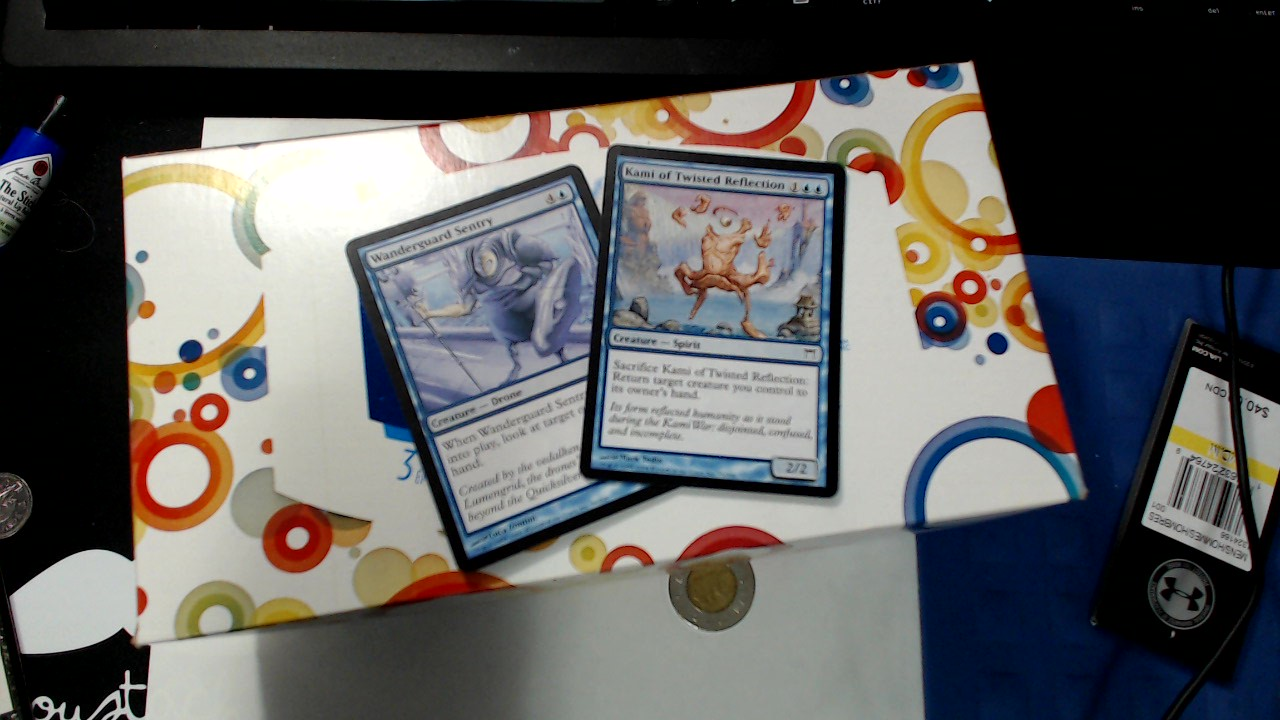MTG Card: (339, 160, 696, 580), (576, 140, 851, 504)
